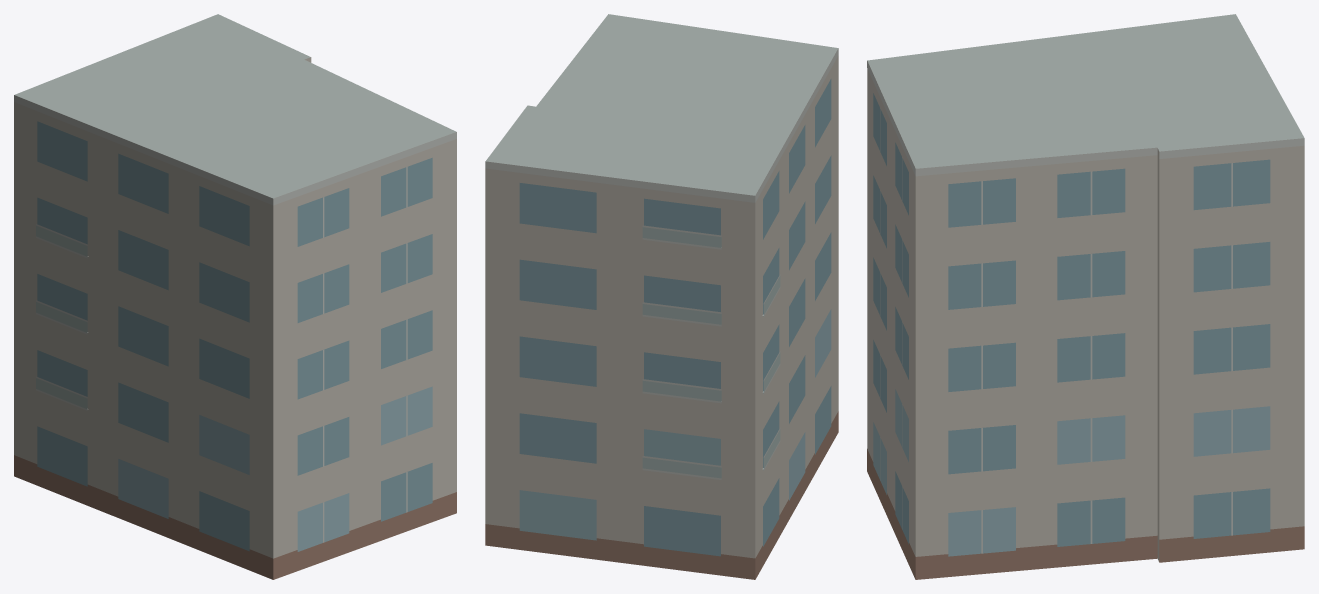
The model's file is survey-upis-32644203.glb.
3 renders of one model, left to right at view 1: azimuth 30°, elevation 25°; view 2: azimuth 150°, elevation 25°; view 3: azimuth 270°, elevation 25°, orthographic. The views are drawn at different scales.
Parts seen in each view (by area): view 1: survey-upis-32644203.tmp; view 2: survey-upis-32644203.tmp; view 3: survey-upis-32644203.tmp.
Part boxes in pixels (x1,y1,x2,y2): survey-upis-32644203.tmp: (14,14,456,579); survey-upis-32644203.tmp: (485,14,838,579); survey-upis-32644203.tmp: (867,14,1304,579).
Size of the model in its own units: 10.75 by 13.3 by 12.84.
